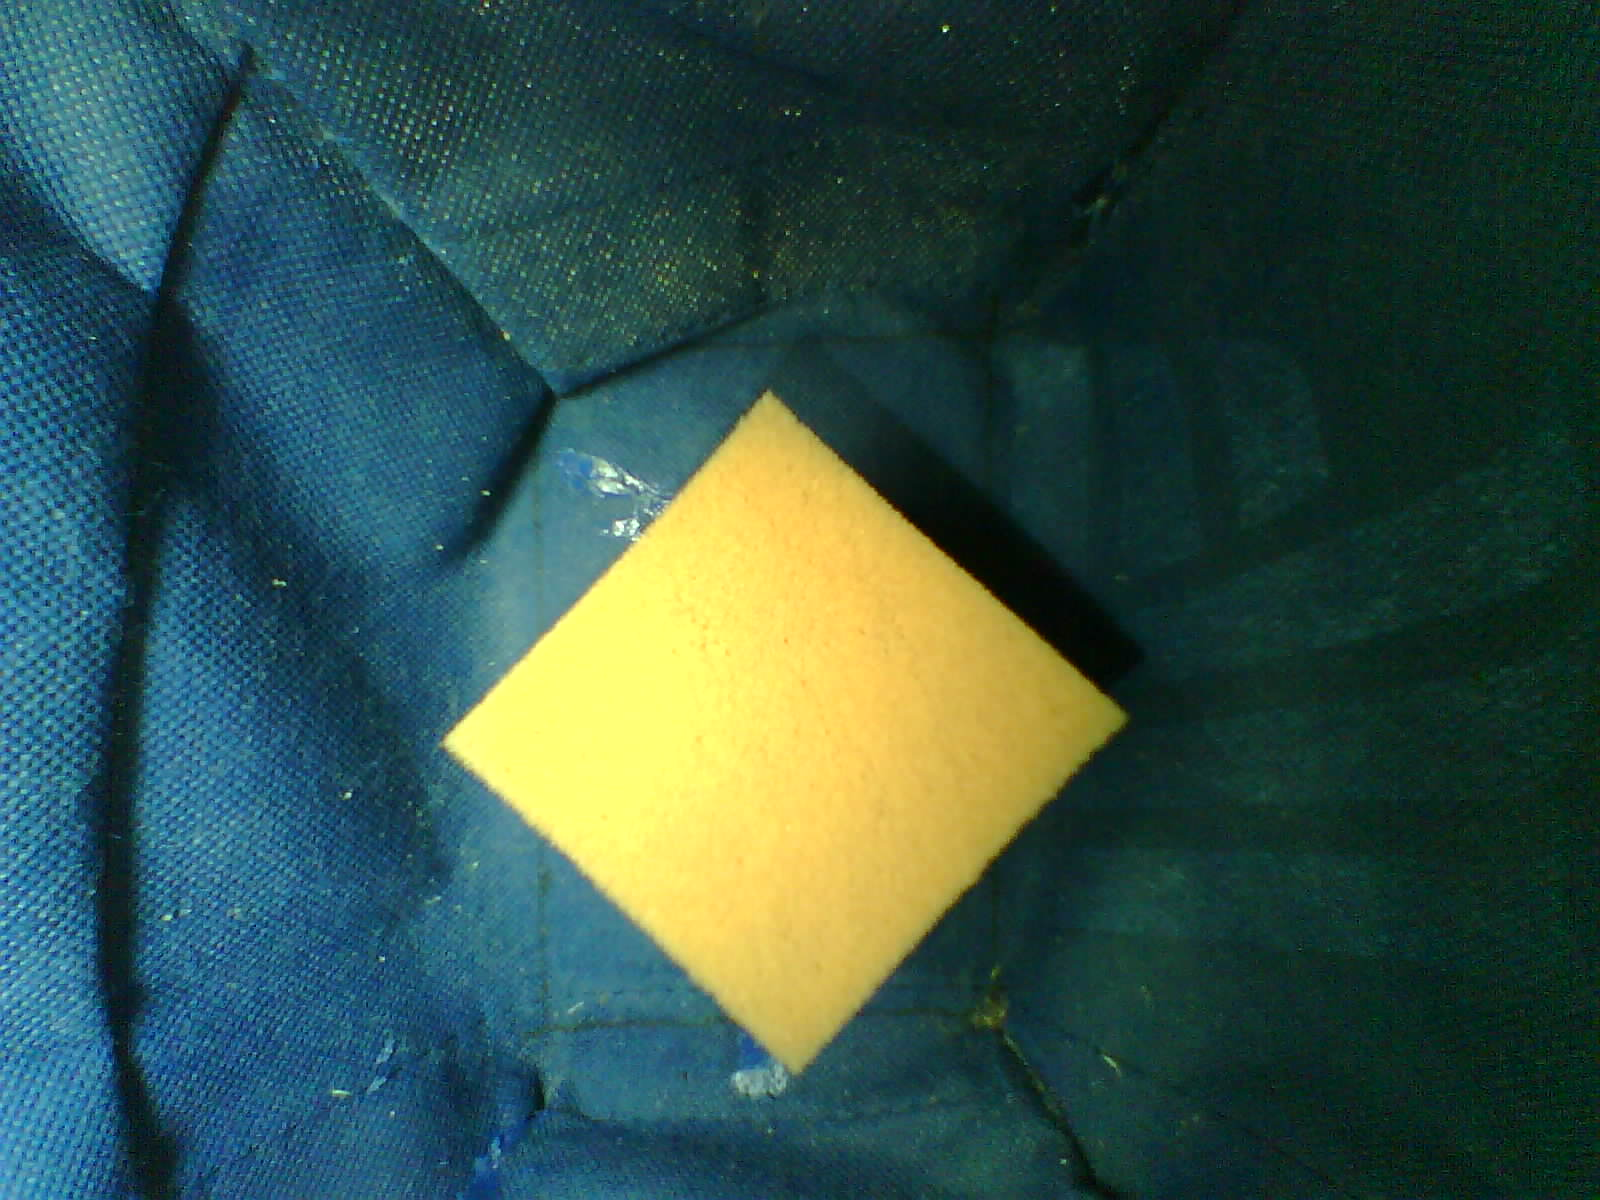cube-soft: (433, 387, 1146, 1104)
